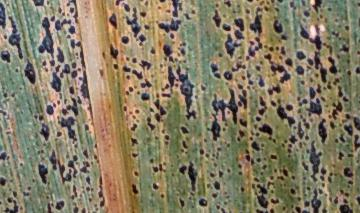tarspot: (176, 63, 199, 121), (210, 87, 240, 125), (77, 39, 90, 101), (38, 14, 55, 59), (8, 14, 24, 61), (310, 139, 321, 182), (125, 7, 140, 37), (154, 17, 182, 33), (303, 97, 324, 116), (186, 160, 198, 193), (24, 57, 37, 86), (208, 113, 221, 142), (64, 125, 79, 149), (248, 13, 263, 35), (317, 116, 329, 143), (224, 32, 235, 59), (48, 72, 62, 93), (37, 162, 49, 185), (152, 99, 168, 115), (56, 115, 79, 126), (48, 148, 59, 171), (67, 96, 79, 116), (327, 55, 339, 75), (108, 42, 121, 60), (40, 121, 51, 142), (299, 22, 310, 42), (312, 189, 321, 213), (108, 12, 119, 31), (211, 9, 222, 28), (309, 35, 321, 52), (1, 1, 8, 30), (166, 66, 175, 88), (67, 159, 78, 177), (85, 102, 96, 120), (275, 105, 289, 119), (71, 1, 79, 25), (171, 1, 183, 17), (97, 175, 105, 199), (259, 122, 273, 135), (330, 99, 344, 112), (1, 49, 13, 64), (55, 45, 65, 63), (239, 90, 248, 110), (273, 18, 284, 34), (296, 120, 305, 139), (162, 43, 175, 56), (256, 195, 269, 208), (61, 169, 73, 183), (234, 16, 245, 31), (231, 62, 247, 72), (313, 49, 321, 69), (139, 59, 152, 71), (131, 68, 144, 80), (262, 53, 275, 65), (54, 199, 67, 211), (256, 183, 269, 195), (256, 74, 267, 88), (234, 29, 246, 41), (254, 35, 263, 51), (10, 201, 22, 213), (80, 161, 92, 173), (339, 204, 355, 213), (343, 123, 354, 136), (258, 94, 268, 108), (320, 63, 327, 83), (146, 116, 155, 131), (140, 78, 152, 89), (279, 72, 291, 83), (311, 1, 322, 13), (307, 86, 317, 99), (30, 1, 46, 9), (58, 161, 66, 177), (61, 63, 72, 74), (343, 166, 354, 177), (178, 125, 190, 135), (329, 109, 339, 121), (181, 139, 190, 152), (130, 137, 140, 148), (295, 50, 306, 60), (198, 197, 209, 207), (53, 19, 62, 31), (339, 44, 351, 53), (354, 135, 360, 152), (289, 135, 299, 145), (123, 3, 132, 14), (284, 57, 293, 68), (287, 116, 296, 127), (130, 183, 139, 194), (72, 183, 79, 197), (61, 17, 73, 25), (69, 37, 77, 49), (138, 34, 146, 46), (210, 61, 218, 73), (336, 85, 344, 97), (354, 115, 360, 131), (160, 92, 173, 99), (69, 70, 79, 79), (177, 47, 187, 56), (224, 71, 233, 81), (238, 118, 248, 127), (46, 104, 54, 115), (141, 93, 152, 101), (221, 23, 232, 31), (247, 45, 255, 56), (315, 83, 323, 94), (47, 202, 55, 213), (179, 164, 187, 175), (314, 23, 321, 35), (1, 152, 10, 161), (121, 35, 130, 44), (184, 11, 193, 20), (296, 66, 305, 75), (251, 141, 260, 150), (301, 162, 310, 171), (84, 123, 92, 133), (280, 45, 288, 55), (83, 149, 90, 160), (98, 67, 105, 78), (163, 134, 170, 145), (222, 1, 233, 8), (339, 132, 346, 143), (1, 175, 8, 186), (159, 162, 166, 173), (68, 25, 76, 34), (57, 71, 66, 79), (76, 96, 84, 105), (122, 65, 131, 73), (130, 122, 138, 131), (211, 151, 220, 159), (277, 64, 285, 73), (332, 76, 340, 85), (329, 121, 337, 130), (303, 120, 311, 129), (6, 195, 14, 204), (281, 167, 289, 176), (68, 85, 75, 95), (154, 112, 160, 123), (326, 44, 332, 55), (1, 108, 9, 116), (37, 113, 45, 121), (161, 83, 169, 91), (214, 72, 222, 80), (273, 85, 281, 93), (151, 182, 159, 190), (320, 166, 328, 174), (271, 197, 279, 205), (281, 33, 288, 42), (289, 1, 296, 10), (338, 151, 345, 160), (115, 1, 125, 7), (85, 175, 91, 185), (73, 203, 79, 213), (179, 197, 185, 207), (276, 175, 286, 181), (2, 91, 9, 99), (61, 108, 69, 115), (112, 63, 120, 70), (142, 1, 150, 8), (168, 56, 176, 63), (148, 106, 156, 113), (255, 64, 262, 72), (286, 104, 294, 111), (303, 10, 310, 18), (343, 95, 351, 102), (345, 113, 353, 120), (304, 133, 311, 141), (94, 155, 100, 164), (131, 152, 140, 158), (236, 83, 245, 89), (258, 109, 267, 115), (271, 64, 277, 73), (269, 153, 278, 159), (22, 191, 31, 197), (355, 66, 360, 76), (14, 66, 21, 73), (237, 101, 244, 108), (238, 129, 245, 136), (249, 39, 256, 46), (267, 88, 274, 95), (261, 163, 268, 170), (331, 30, 338, 37), (218, 170, 225, 177), (276, 98, 283, 105), (69, 6, 75, 14), (49, 58, 55, 66), (55, 64, 61, 72), (72, 154, 78, 162), (141, 11, 147, 19), (150, 46, 156, 54), (305, 66, 313, 72), (80, 207, 88, 213), (100, 199, 106, 207), (253, 176, 261, 182), (346, 179, 354, 185), (342, 198, 350, 204), (321, 208, 330, 213), (275, 1, 286, 5), (44, 67, 50, 74), (50, 14, 56, 21), (144, 23, 150, 30), (169, 33, 176, 39), (155, 91, 161, 98), (199, 149, 205, 156), (235, 41, 242, 47), (248, 79, 255, 85), (263, 5, 270, 11), (275, 7, 281, 14), (271, 100, 277, 107), (308, 58, 314, 65), (302, 98, 308, 105), (326, 6, 333, 12), (343, 25, 350, 31), (346, 58, 352, 65), (133, 170, 139, 177), (152, 166, 159, 172), (237, 163, 244, 169), (290, 187, 296, 194), (327, 176, 333, 183), (319, 174, 325, 181), (296, 206, 302, 213), (318, 188, 324, 195), (224, 193, 231, 199), (102, 51, 107, 59), (201, 83, 206, 91), (255, 6, 263, 11), (327, 81, 332, 89), (44, 195, 52, 200), (211, 192, 219, 197), (299, 141, 304, 149), (305, 199, 310, 207), (333, 196, 338, 204), (42, 59, 48, 65), (71, 62, 77, 68), (128, 85, 134, 91), (191, 9, 197, 15), (154, 135, 160, 141), (245, 55, 251, 61), (301, 1, 307, 7), (297, 107, 303, 113), (269, 36, 275, 42), (18, 161, 24, 167), (12, 191, 18, 197), (160, 193, 166, 199), (215, 181, 219, 190), (356, 195, 360, 204), (332, 163, 338, 169), (11, 91, 16, 98), (33, 113, 38, 120), (55, 100, 62, 105), (237, 136, 242, 143), (255, 116, 262, 121), (250, 158, 255, 165), (346, 69, 351, 76), (4, 206, 9, 213), (85, 185, 90, 192), (205, 183, 212, 188), (226, 168, 233, 173), (347, 153, 354, 158), (305, 185, 312, 190), (297, 195, 302, 202), (251, 182, 256, 189), (268, 182, 275, 187), (75, 51, 79, 59), (179, 42, 187, 46), (256, 209, 264, 213), (3, 33, 8, 39), (61, 11, 66, 17), (56, 132, 62, 137), (93, 143, 98, 149), (132, 58, 137, 64), (135, 108, 141, 113), (166, 8, 171, 14), (161, 129, 167, 134), (215, 3, 221, 8), (237, 55, 243, 60), (245, 8, 251, 13), (205, 152, 210, 158), (269, 46, 274, 52), (300, 80, 306, 85), (245, 155, 250, 161), (256, 158, 262, 163), (300, 114, 305, 120), (333, 18, 339, 23), (278, 54, 283, 60), (335, 138, 340, 144), (94, 204, 99, 210), (209, 172, 215, 177), (213, 161, 218, 167), (216, 205, 222, 210), (291, 174, 296, 180), (328, 171, 333, 177), (321, 182, 326, 188), (344, 192, 350, 197), (65, 34, 72, 38), (123, 105, 127, 112), (77, 67, 82, 72), (137, 90, 142, 95), (159, 63, 164, 68), (246, 85, 251, 90), (218, 52, 223, 57), (245, 149, 250, 154), (288, 143, 293, 148), (319, 14, 324, 19), (70, 194, 75, 199), (340, 189, 345, 194), (290, 204, 295, 209), (223, 201, 228, 206), (270, 189, 275, 194), (58, 7, 62, 13), (66, 2, 72, 6), (157, 6, 163, 10), (176, 81, 179, 89), (222, 126, 226, 132), (225, 143, 231, 147), (284, 138, 288, 144), (310, 76, 314, 82), (182, 59, 188, 63), (316, 16, 320, 22), (357, 1, 360, 9), (27, 186, 33, 190), (150, 157, 154, 163), (239, 170, 243, 176), (306, 148, 310, 154), (281, 206, 287, 210), (329, 196, 332, 204), (358, 17, 360, 28), (53, 103, 57, 108), (126, 75, 131, 79), (158, 1, 168, 3), (126, 91, 130, 96), (132, 115, 137, 119), (163, 57, 167, 62), (242, 75, 246, 80), (246, 72, 250, 77), (245, 1, 255, 3), (264, 44, 268, 49), (254, 124, 258, 129), (255, 132, 260, 136), (282, 143, 286, 148), (287, 149, 292, 153), (287, 154, 292, 158), (297, 96, 301, 101), (298, 102, 303, 106), (314, 72, 319, 76), (323, 86, 327, 91), (88, 198, 93, 202), (241, 188, 245, 193), (273, 168, 278, 172), (270, 175, 274, 180), (270, 208, 274, 213), (258, 1, 264, 4), (270, 1, 276, 4), (63, 99, 67, 103), (217, 146, 221, 150), (266, 1, 270, 5), (276, 47, 280, 51), (250, 136, 254, 140), (273, 139, 277, 143), (269, 136, 273, 140), (323, 42, 327, 46), (265, 209, 269, 213), (221, 209, 225, 213), (126, 56, 129, 61), (357, 50, 360, 55), (32, 178, 35, 183), (1, 199, 3, 206), (203, 139, 207, 142), (251, 130, 254, 134), (261, 143, 264, 147), (37, 150, 40, 154), (129, 111, 132, 114), (41, 150, 44, 153)
